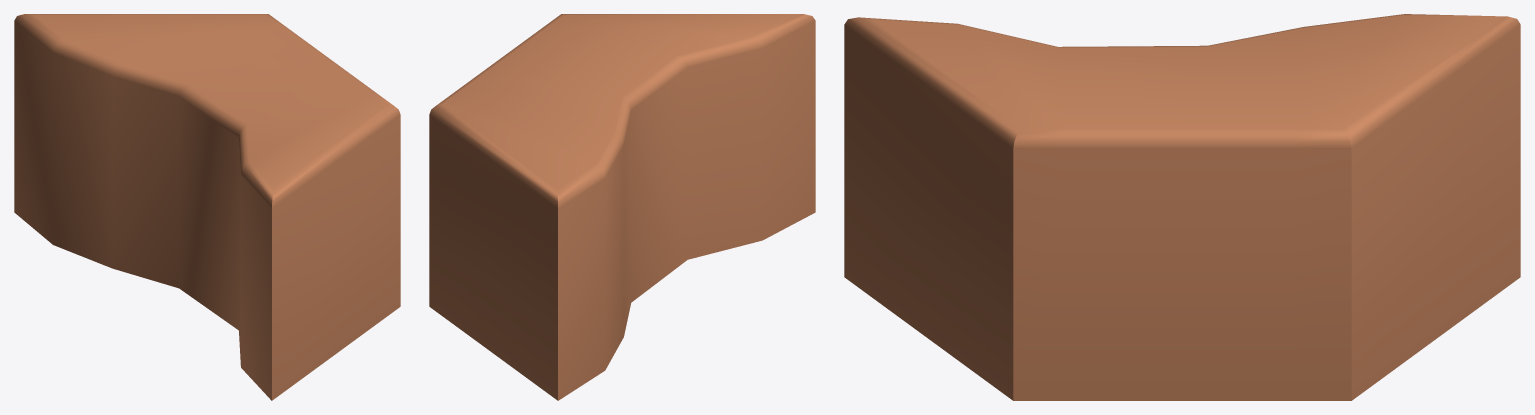
Rendered from hex_rock_waterC_empty.glb.
3 renders of one model, left to right at view 1: azimuth 30°, elevation 25°; view 2: azimuth 150°, elevation 25°; view 3: azimuth 270°, elevation 25°, orthographic. The views are drawn at different scales.
Visible parts, largest first — view 1: hex_rock_waterC_empty; view 2: hex_rock_waterC_empty; view 3: hex_rock_waterC_empty.
Part boxes in pixels (<box>): hex_rock_waterC_empty: <box>14,14,400,400</box>; hex_rock_waterC_empty: <box>429,14,815,400</box>; hex_rock_waterC_empty: <box>844,14,1520,400</box>.
Size of the model in its own units: 1.95 by 1.91 by 4.41.
